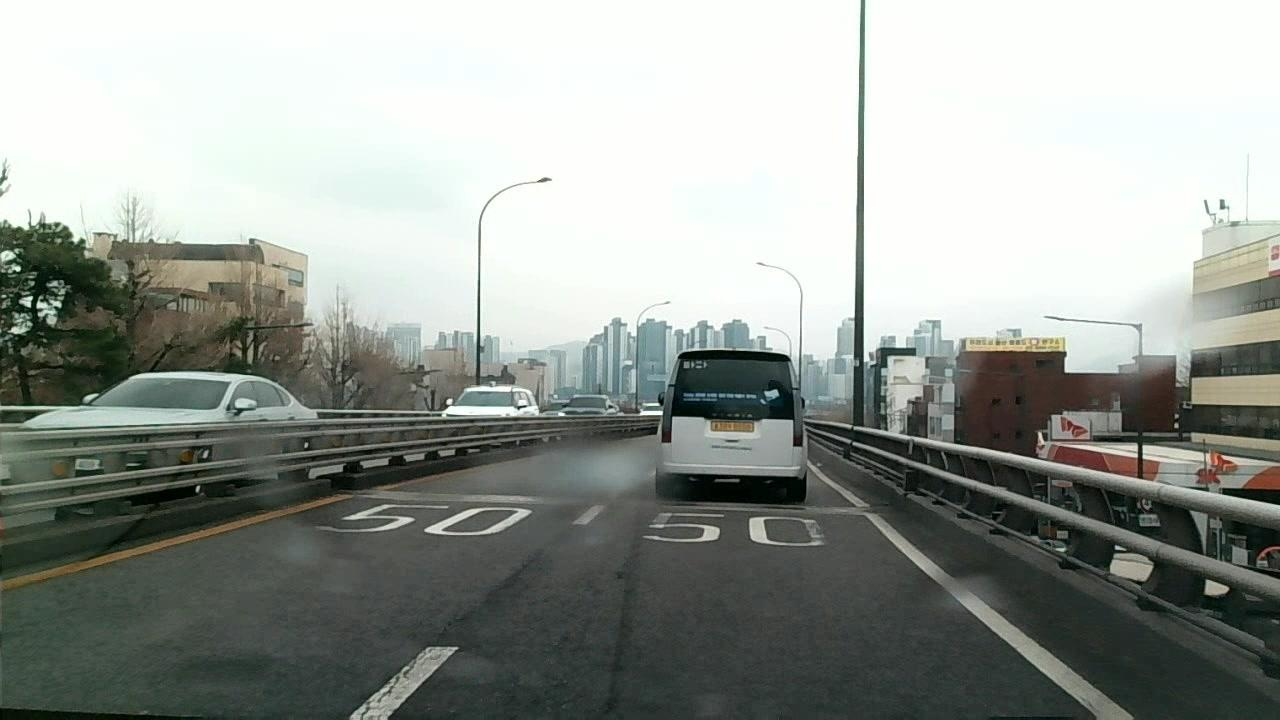banner: (364, 553, 536, 700)
